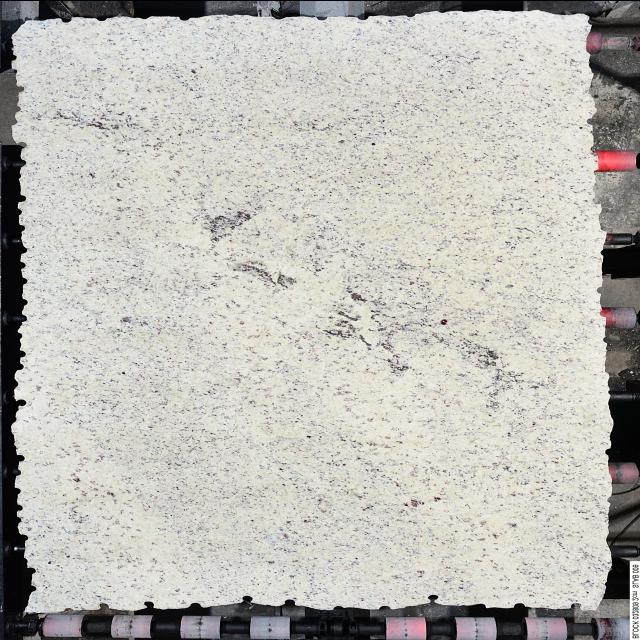chapa: (11, 9, 614, 612)
veio: (238, 593, 258, 603), (96, 598, 112, 610), (281, 597, 299, 607), (13, 82, 28, 94), (141, 599, 156, 609), (59, 14, 74, 24), (14, 450, 26, 462), (26, 565, 40, 575), (425, 592, 440, 601), (568, 600, 584, 608), (16, 192, 28, 202), (16, 139, 28, 149), (16, 397, 30, 405)
